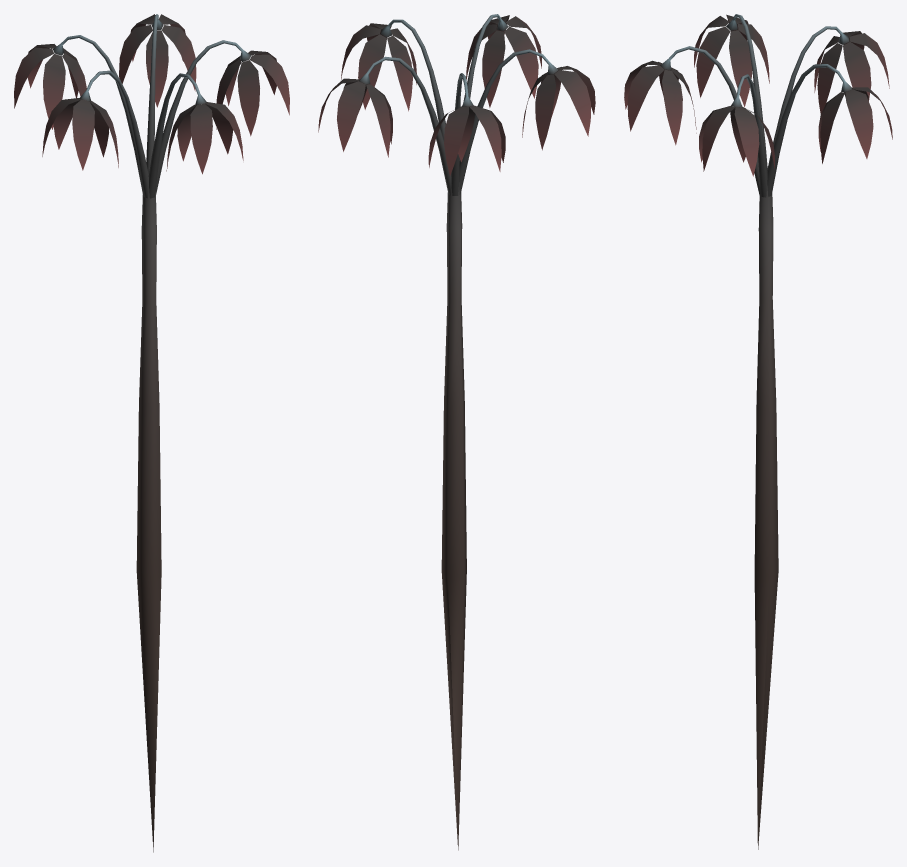
The model's file is plants-flowers-red-bell-flower_v6.glb.
3 renders of one model, left to right at view 1: azimuth 30°, elevation 25°; view 2: azimuth 150°, elevation 25°; view 3: azimuth 270°, elevation 25°, orthographic.
Visible parts, largest first — view 1: Red Bell Flower_v6; view 2: Red Bell Flower_v6; view 3: Red Bell Flower_v6.
Boxes of the visible parts, x1=… form: Red Bell Flower_v6: x1=14, y1=14, x2=289, y2=852; Red Bell Flower_v6: x1=318, y1=14, x2=595, y2=850; Red Bell Flower_v6: x1=624, y1=14, x2=892, y2=849.
Bounding box in the file's own units: 0.2183 × 0.7 × 0.2111.
